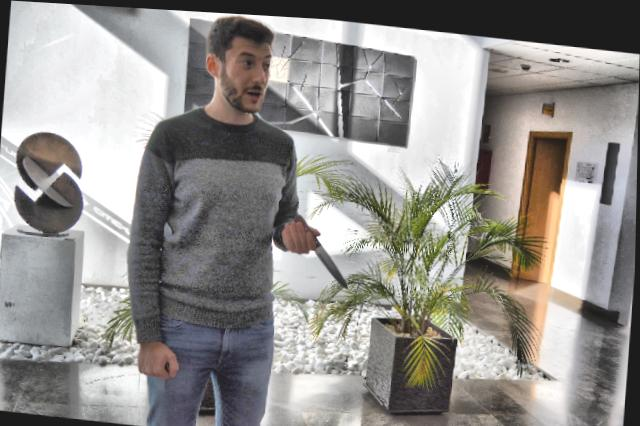knife: (289, 209, 355, 287)
